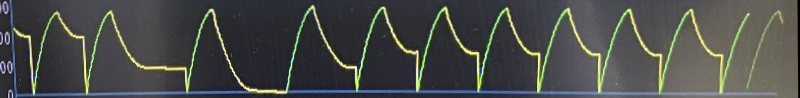leakage: (0, 0, 755, 98)
